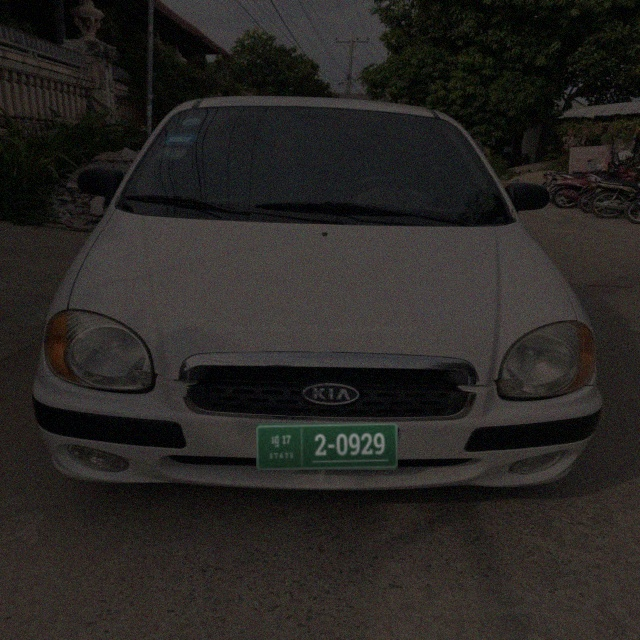Plate Number: (256, 423, 398, 470)
